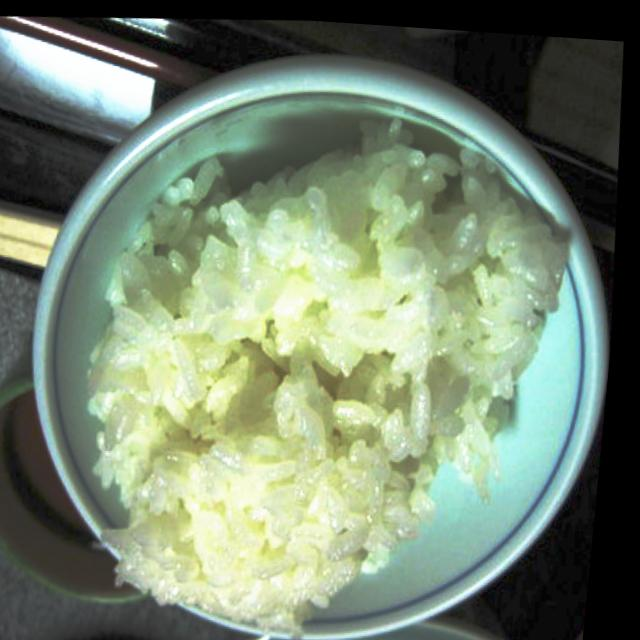rice: (45, 88, 606, 640)
